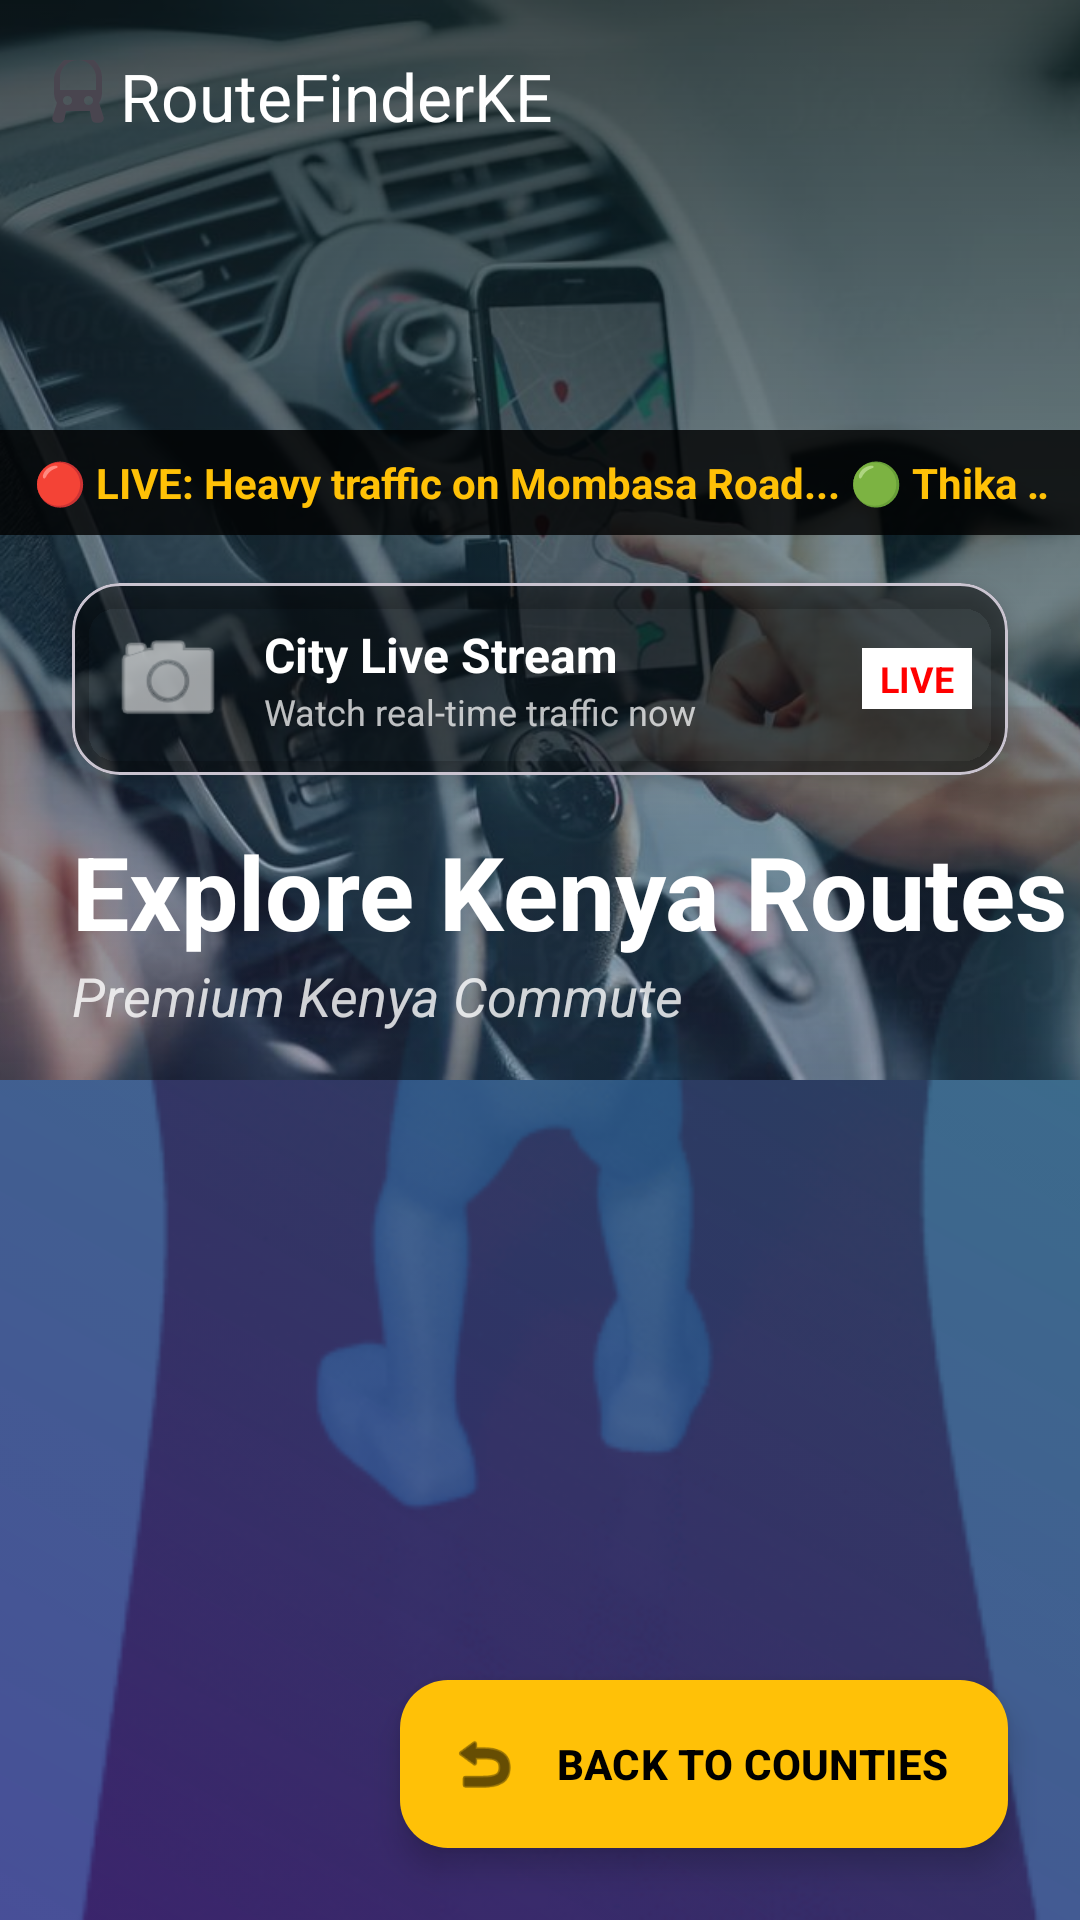

Where icons sit on this 1080w x 1920h app screen, as bbox=(x1, y1, x2, y2):
camera: bbox=(108, 619, 228, 733)
